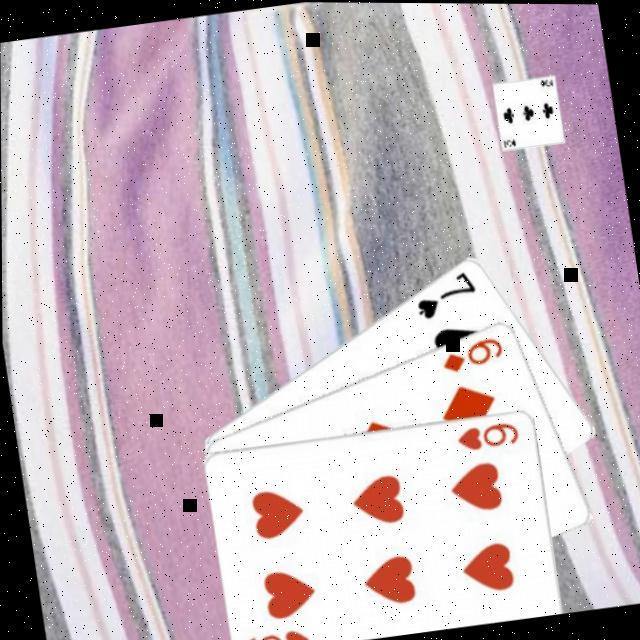6D: (437, 329, 509, 374)
6H: (454, 413, 525, 451), (243, 621, 314, 640)
7S: (411, 262, 483, 320)
